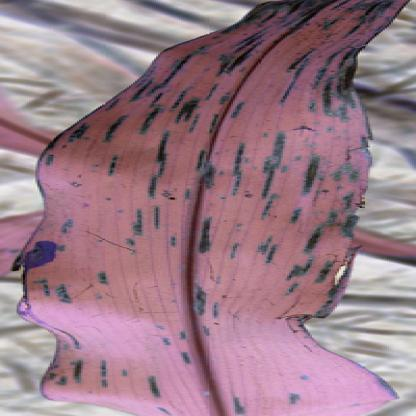Corn Gray leaf spot: (23, 2, 408, 415)
